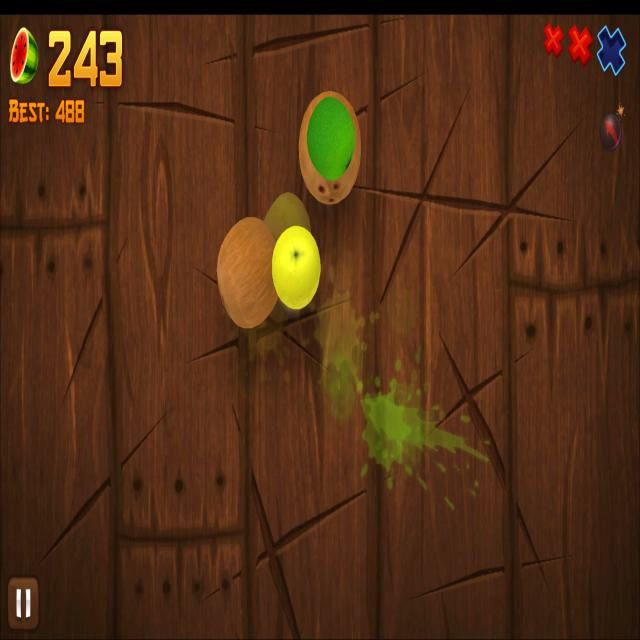fruit: (299, 90, 361, 206), (216, 218, 278, 328), (272, 226, 320, 311), (306, 97, 354, 180), (263, 192, 311, 240)
